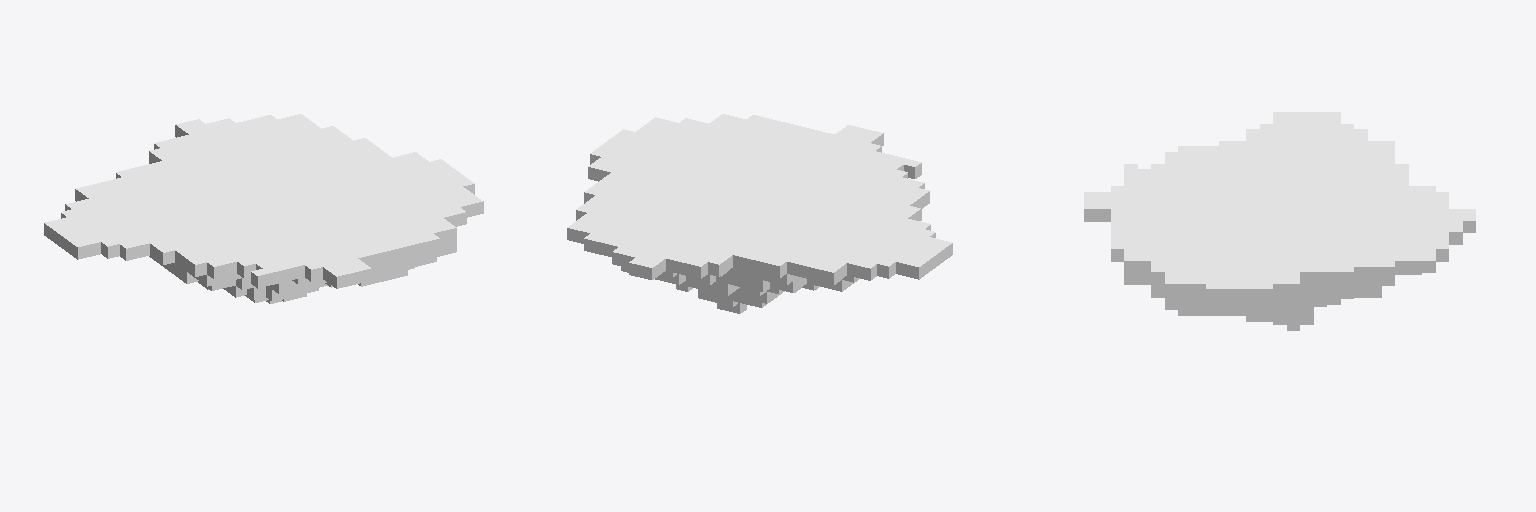
File: ice_land6.obj
3 renders of one model, left to right at view 1: azimuth 30°, elevation 25°; view 2: azimuth 150°, elevation 25°; view 3: azimuth 270°, elevation 25°, orthographic.
Visible parts, largest first — view 1: object 1; view 2: object 1; view 3: object 1.
Boxes of the visible parts, box(x1,y1,x2,y2) form: object 1: box(44, 114, 483, 303); object 1: box(567, 114, 952, 313); object 1: box(1084, 112, 1475, 330).
Size of the model in its own units: 3.1 by 0.9 by 2.9.